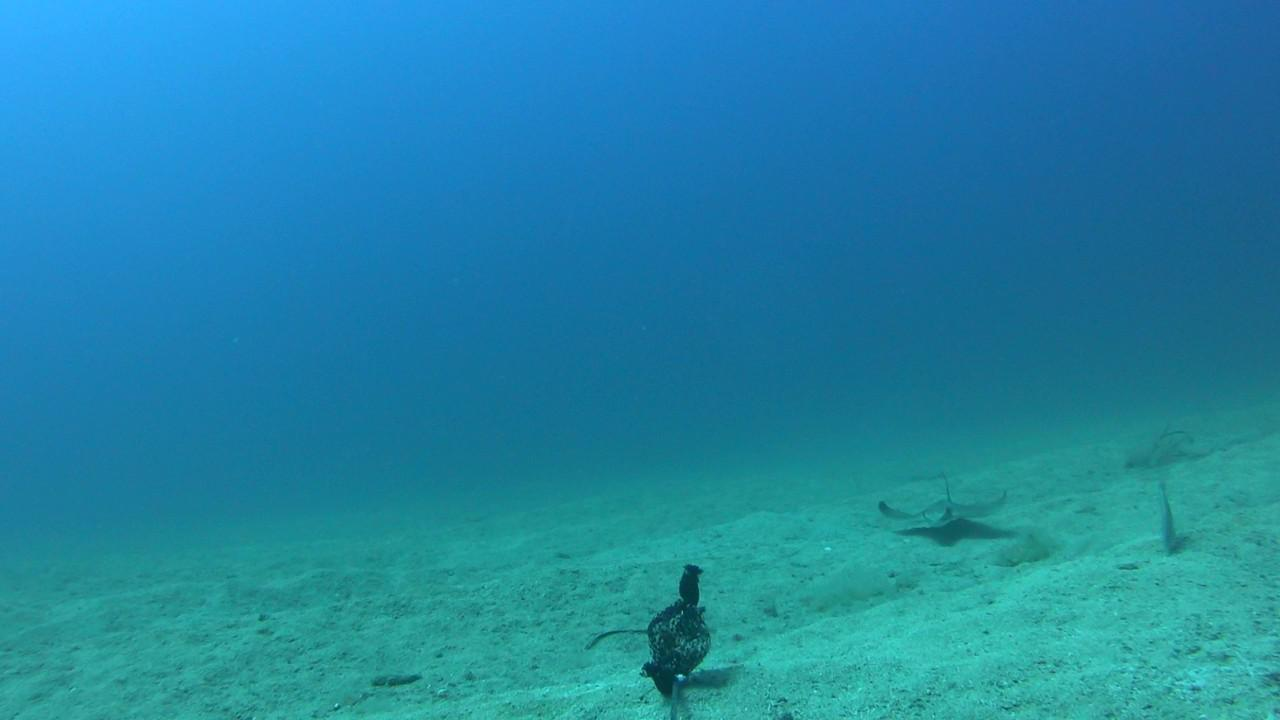myliobatis: (870, 466, 1011, 530)
